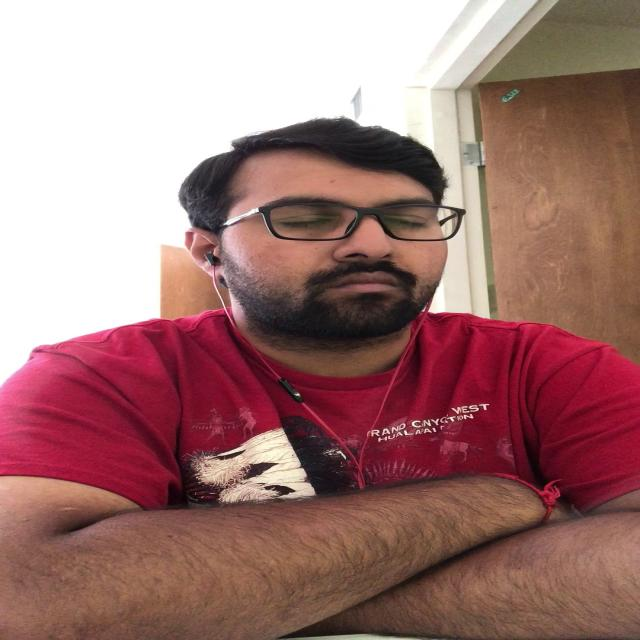Eyeclosed: (278, 210, 330, 235), (384, 210, 428, 235)
